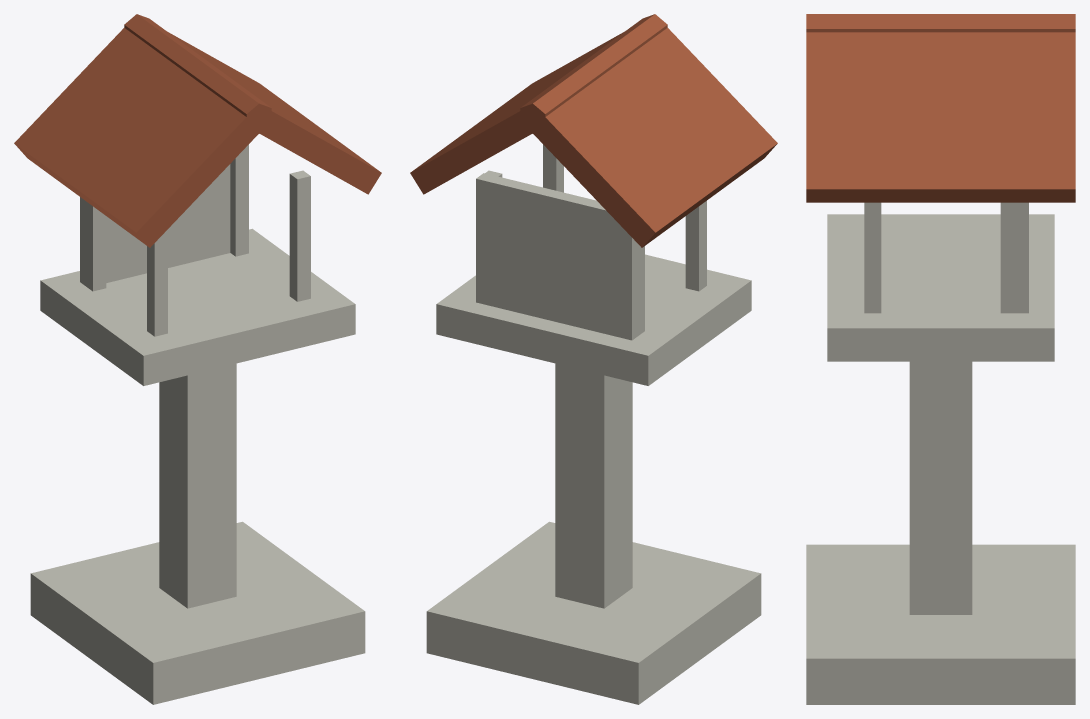
File: thai_spirit.glb
The picture shows the model from 3 angles, left to right: view 1: azimuth 30°, elevation 25°; view 2: azimuth 150°, elevation 25°; view 3: azimuth 270°, elevation 25°; orthographic projection. The views are drawn at different scales.
Parts seen in each view (by area): view 1: thai_spirit; view 2: thai_spirit; view 3: thai_spirit.
Boxes of the visible parts, left/top/right/bottom form: thai_spirit: left=14, top=14, right=381, bottom=704; thai_spirit: left=410, top=14, right=777, bottom=704; thai_spirit: left=806, top=14, right=1075, bottom=704.
Bounding box in the file's own units: 1.1 × 2.47 × 0.9501.
